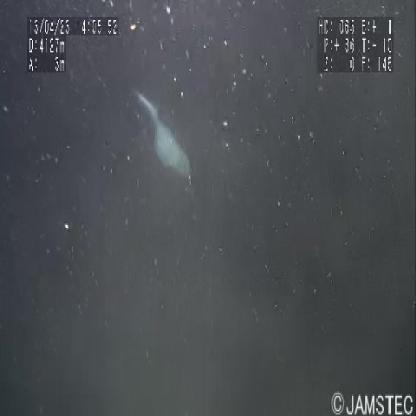Bio: (134, 88, 194, 185)
